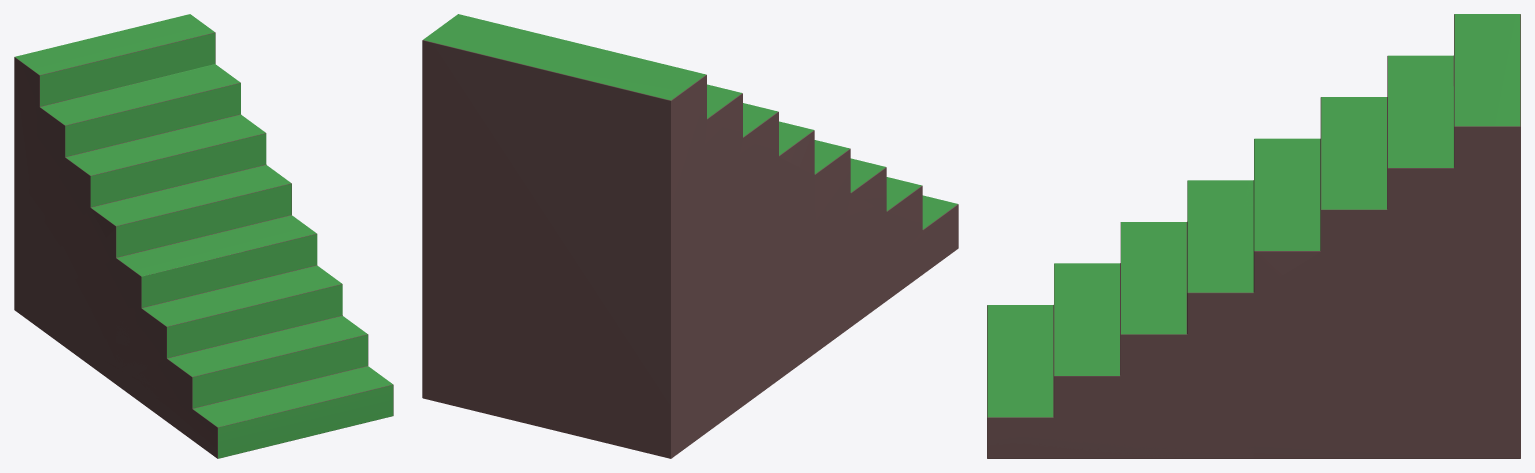
The model's file is Stairs.fbx.
3 renders of one model, left to right at view 1: azimuth 30°, elevation 25°; view 2: azimuth 150°, elevation 25°; view 3: azimuth 270°, elevation 25°, orthographic. The views are drawn at different scales.
Visible parts, largest first — view 1: stair_big, stair_small; view 2: stair_big, stair_small; view 3: stair_big, stair_small.
Boxes of the visible parts, x1,y1,x2,y2 form: stair_big: (14,14,393,458); stair_small: (116,215,393,458); stair_big: (422,14,958,458); stair_small: (814,140,958,353); stair_big: (987,14,1520,458); stair_small: (987,180,1253,458).
Size of the model in its own units: 250 by 344 by 500.
